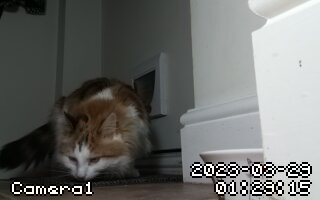clara: (14, 80, 148, 182)
